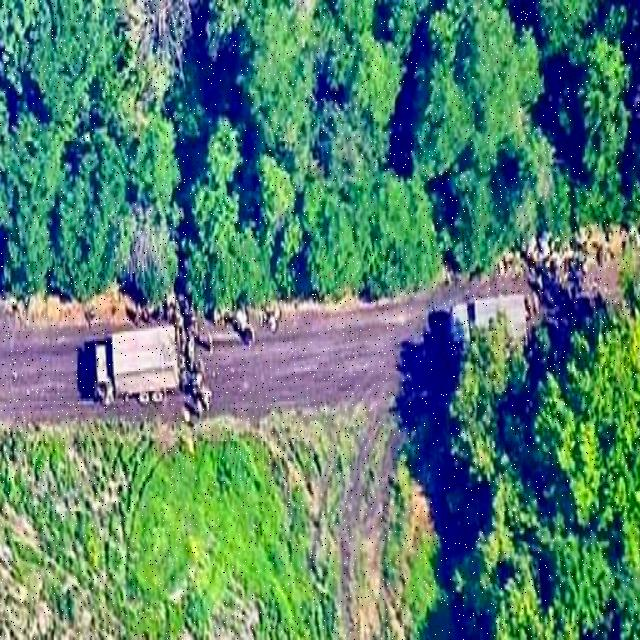TRUCK: (86, 326, 178, 410), (445, 294, 526, 356)
